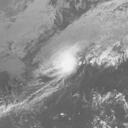cyclone: (50, 45, 80, 80)
